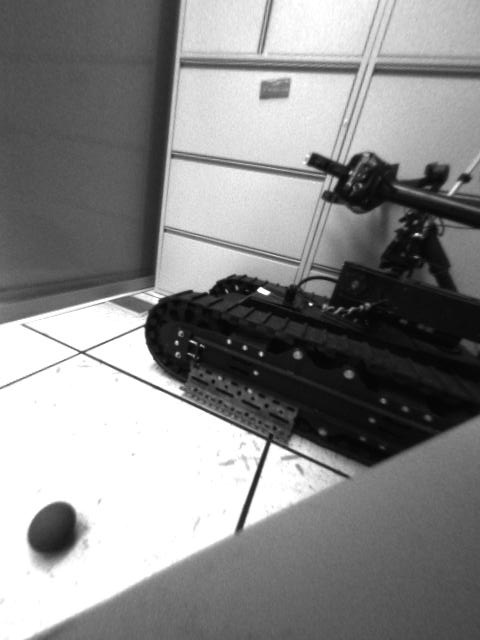dogtoy: (21, 492, 85, 563)
